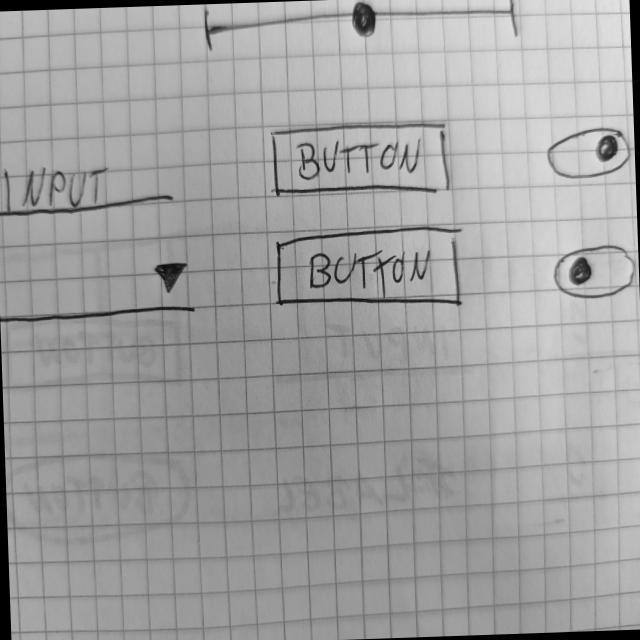button: (268, 225, 464, 311), (270, 119, 454, 203)
input: (1, 155, 177, 223)
select: (1, 254, 200, 332)
slider: (198, 1, 525, 58)
toggle: (545, 124, 636, 183), (552, 243, 640, 302)
